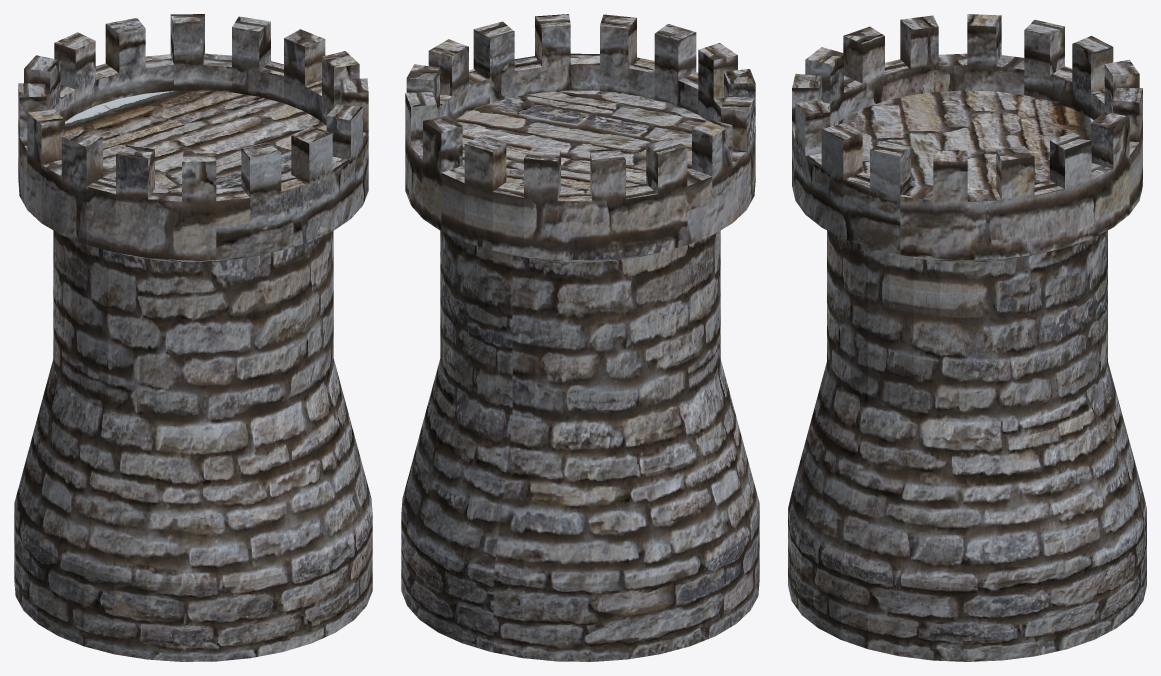
Rendered from TowerBuild.glb.
3 views of the same model, side by side, from view 1: azimuth 30°, elevation 25°; view 2: azimuth 150°, elevation 25°; view 3: azimuth 270°, elevation 25° (orthographic).
Visible parts, largest first — view 1: TowerModel; view 2: TowerModel; view 3: TowerModel.
Boxes of the visible parts, x1,y1,x2,y2 form: TowerModel: [14, 14, 372, 661]; TowerModel: [401, 14, 759, 661]; TowerModel: [788, 14, 1146, 661].
Size of the model in its own units: 1.9 by 2.91 by 1.9.
Materials: 1 (1 with a texture image).
